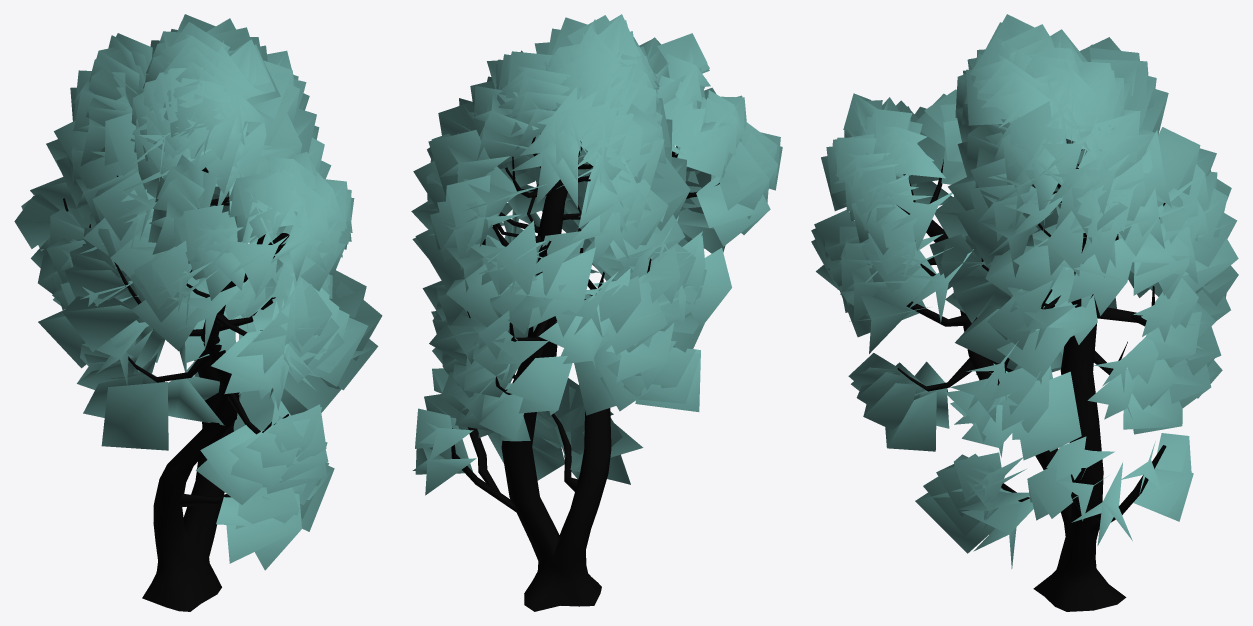
The model's file is MESH_JapaneseRed_02_Var1.fbx.
The picture shows the model from 3 angles, left to right: view 1: azimuth 30°, elevation 25°; view 2: azimuth 150°, elevation 25°; view 3: azimuth 270°, elevation 25°; orthographic projection. The views are drawn at different scales.
Parts seen in each view (by area): view 1: Mesh_02JapaneseRedLOD0; view 2: Mesh_02JapaneseRedLOD0; view 3: Mesh_02JapaneseRedLOD0.
Boxes of the visible parts, x1,y1,x2,y2 form: Mesh_02JapaneseRedLOD0: (14, 14, 382, 611); Mesh_02JapaneseRedLOD0: (411, 14, 782, 611); Mesh_02JapaneseRedLOD0: (811, 14, 1238, 611).
Size of what is drawn, in the model's own units: 798 by 1516 by 1033.
